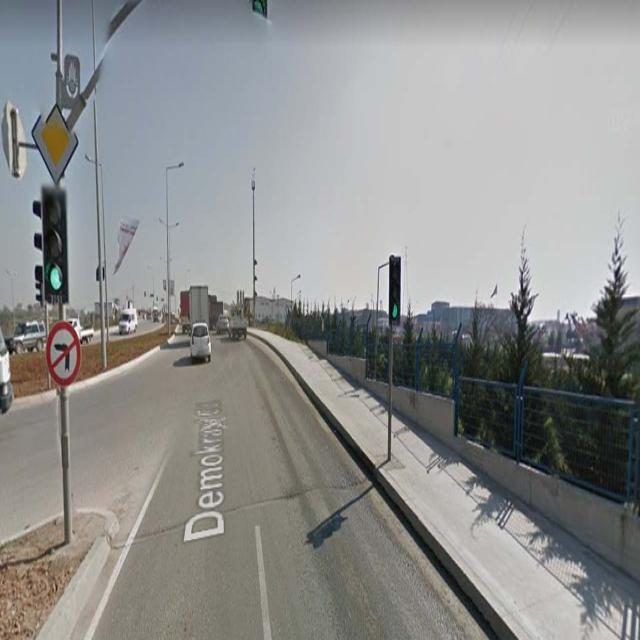soladonulmez: (46, 322, 82, 388)
yesil: (41, 184, 68, 306), (388, 257, 400, 325)
